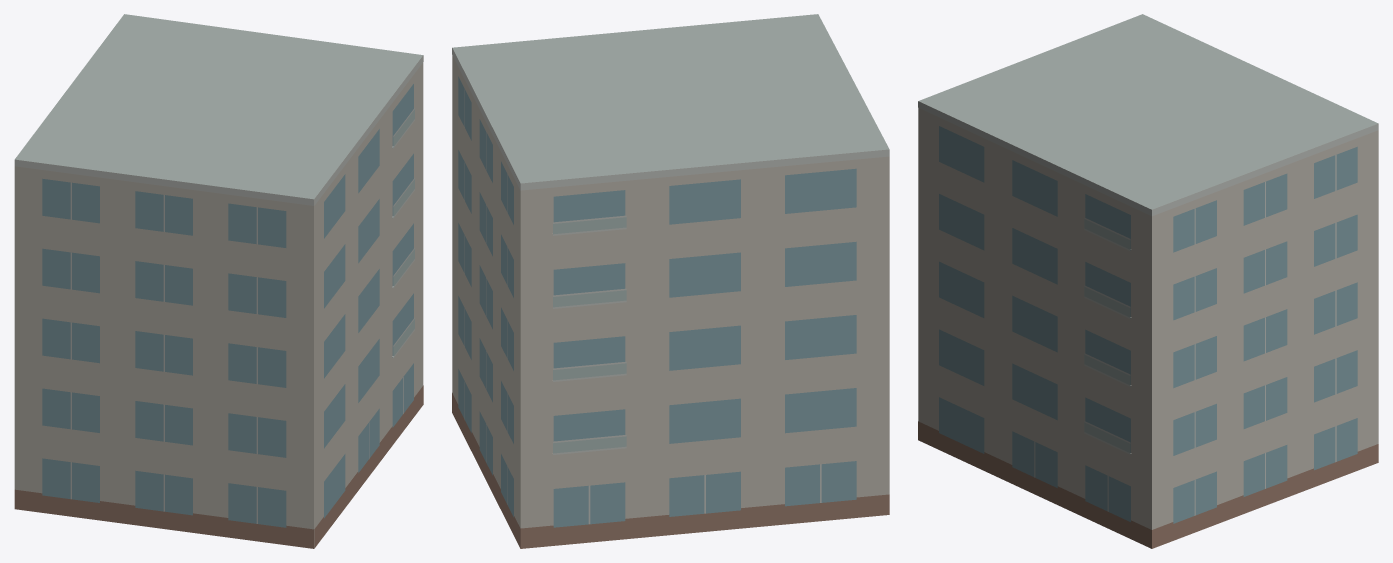
Rendered from survey-upis-32855616.glb.
3 views of the same model, side by side, from view 1: azimuth 30°, elevation 25°; view 2: azimuth 150°, elevation 25°; view 3: azimuth 270°, elevation 25° (orthographic). The views are drawn at different scales.
Visible parts, largest first — view 1: survey-upis-32855616.tmp; view 2: survey-upis-32855616.tmp; view 3: survey-upis-32855616.tmp.
Boxes of the visible parts, <box> form: survey-upis-32855616.tmp: <box>14,14,423,548</box>; survey-upis-32855616.tmp: <box>452,14,889,548</box>; survey-upis-32855616.tmp: <box>918,14,1378,548</box>.
Size of the model in its own units: 15.61 by 12.6 by 15.51.
